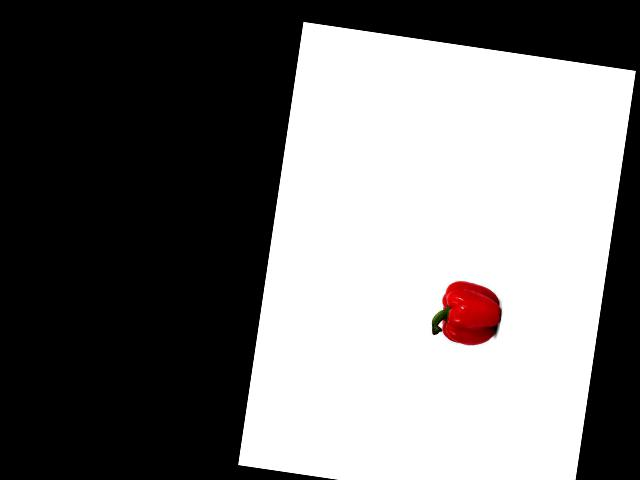bell_pepper: (428, 273, 505, 350)
